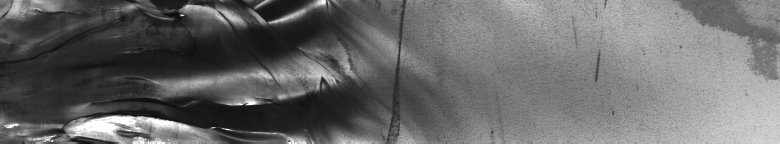ke: (4, 4, 405, 136)
